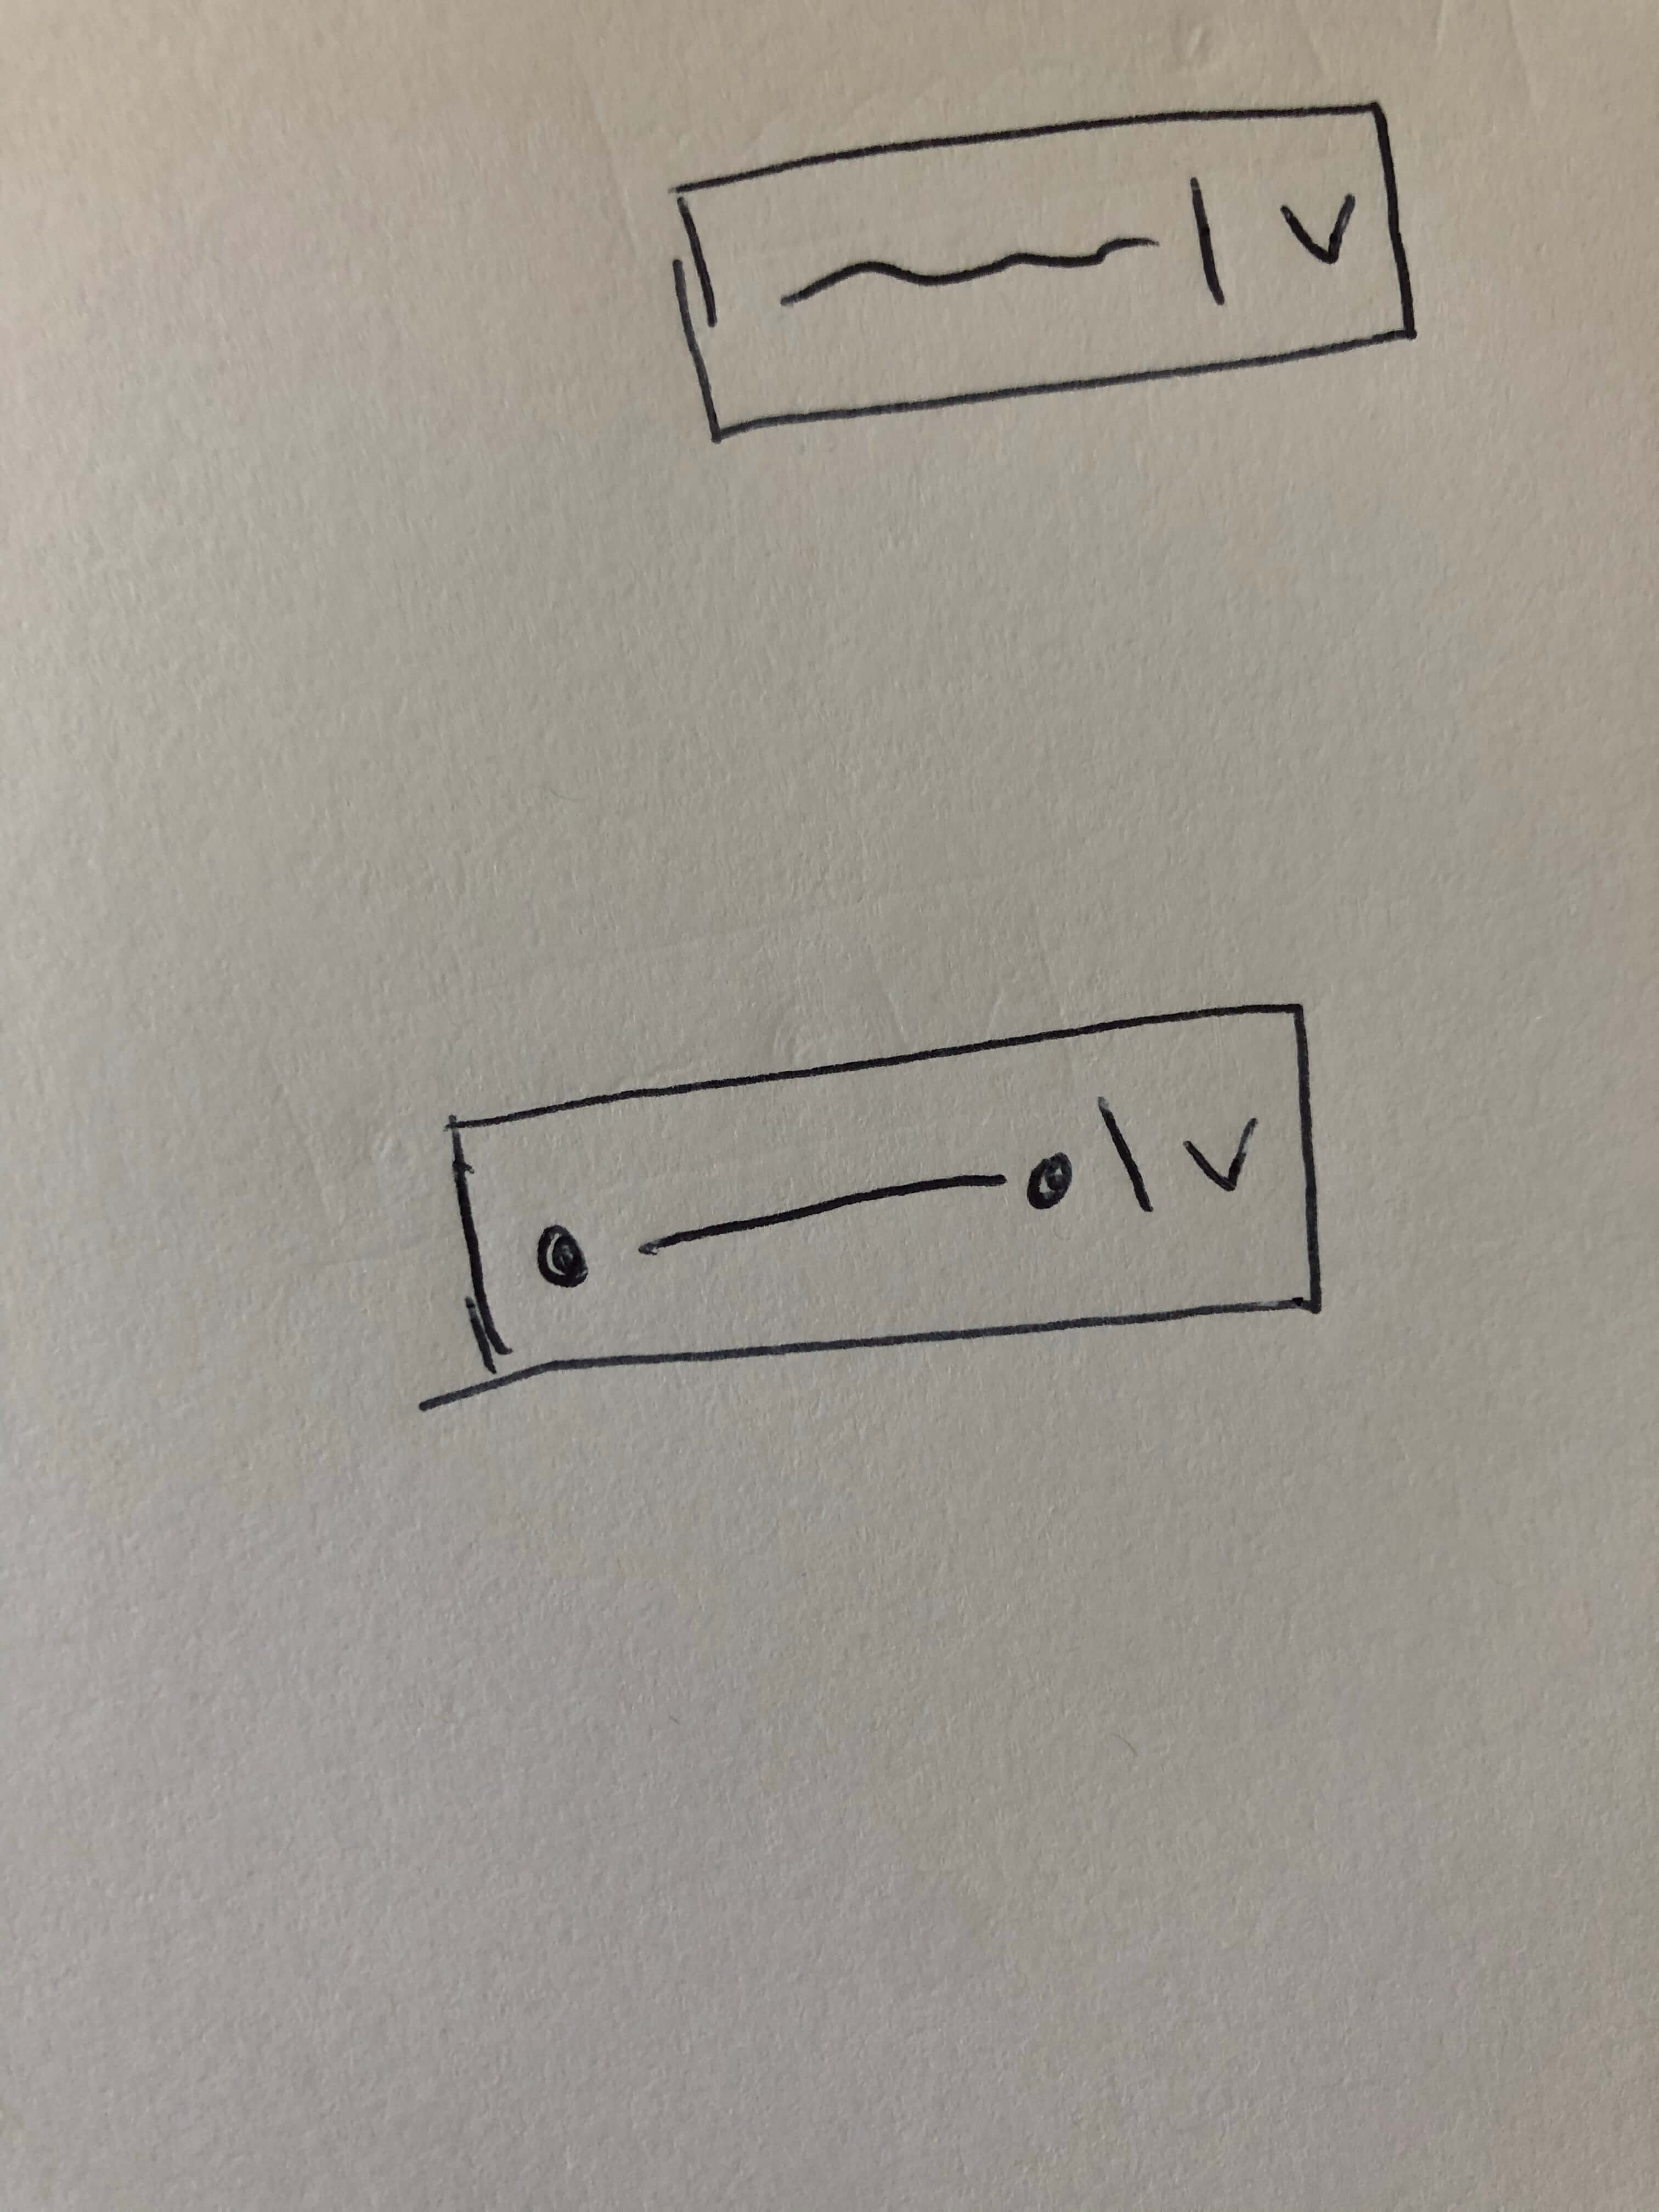split-button: (657, 73, 1459, 503)
